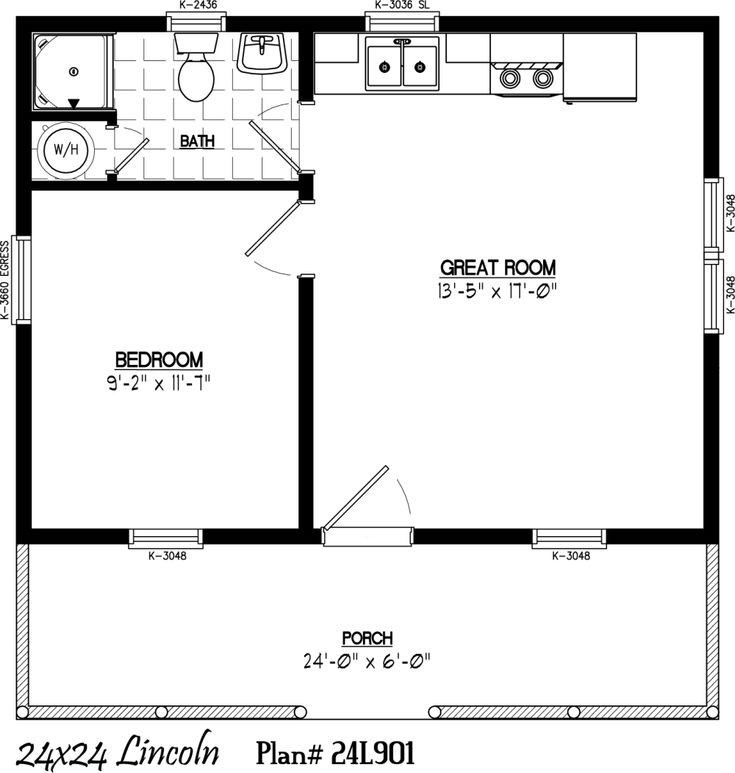door: (313, 450, 421, 528), (235, 188, 316, 279), (239, 94, 316, 183), (107, 112, 160, 180)
room: (314, 15, 735, 552), (22, 186, 316, 545), (115, 37, 313, 196), (25, 17, 119, 112), (28, 110, 126, 178)
wall: (21, 165, 320, 206), (439, 6, 730, 45), (7, 320, 48, 546), (291, 273, 325, 543), (696, 334, 735, 544), (225, 10, 370, 50), (9, 13, 34, 237), (16, 5, 168, 41), (696, 5, 726, 181), (412, 516, 539, 556), (198, 516, 330, 554), (604, 513, 734, 550), (16, 524, 135, 555), (293, 11, 318, 108), (30, 105, 121, 128)
window: (694, 177, 735, 342), (530, 504, 621, 567), (1, 222, 46, 332), (117, 515, 209, 559)
